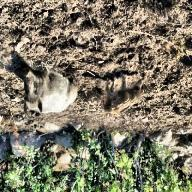boar: (17, 46, 86, 133), (102, 48, 150, 135)
